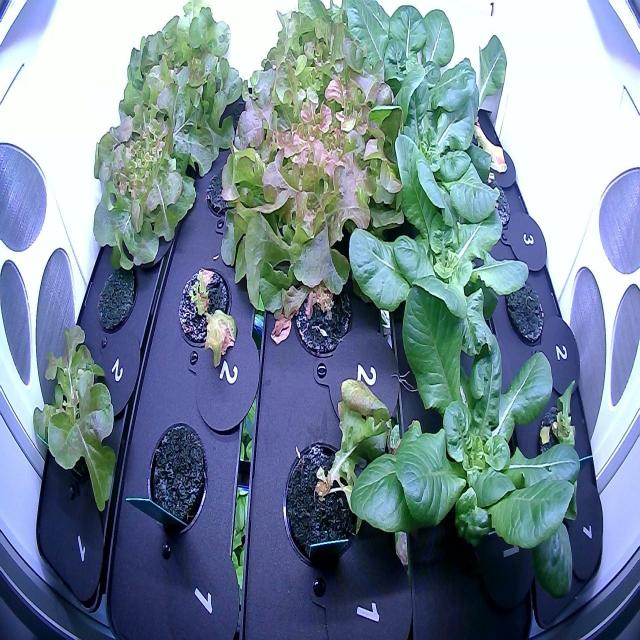pod: (138, 411, 212, 541), (88, 246, 141, 342)
young: (338, 266, 584, 620), (350, 134, 543, 404), (367, 61, 499, 249), (339, 0, 487, 155)
